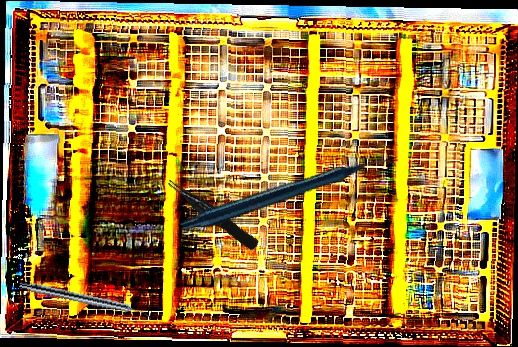Handpiece: (178, 105, 399, 288), (18, 280, 153, 320)
Tissue Forceps: (165, 171, 260, 256)
